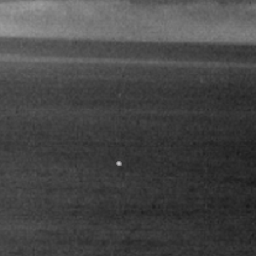Target: (115, 160, 123, 167)
